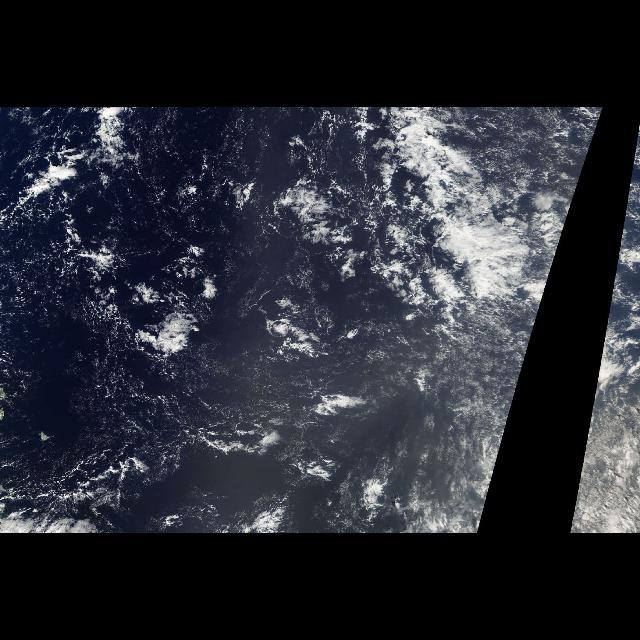Fish: (359, 113, 526, 317)
Gravel: (1, 110, 138, 368), (441, 294, 519, 416)
Sugar: (44, 346, 353, 494), (462, 116, 602, 227), (451, 348, 529, 528), (568, 348, 634, 528)
